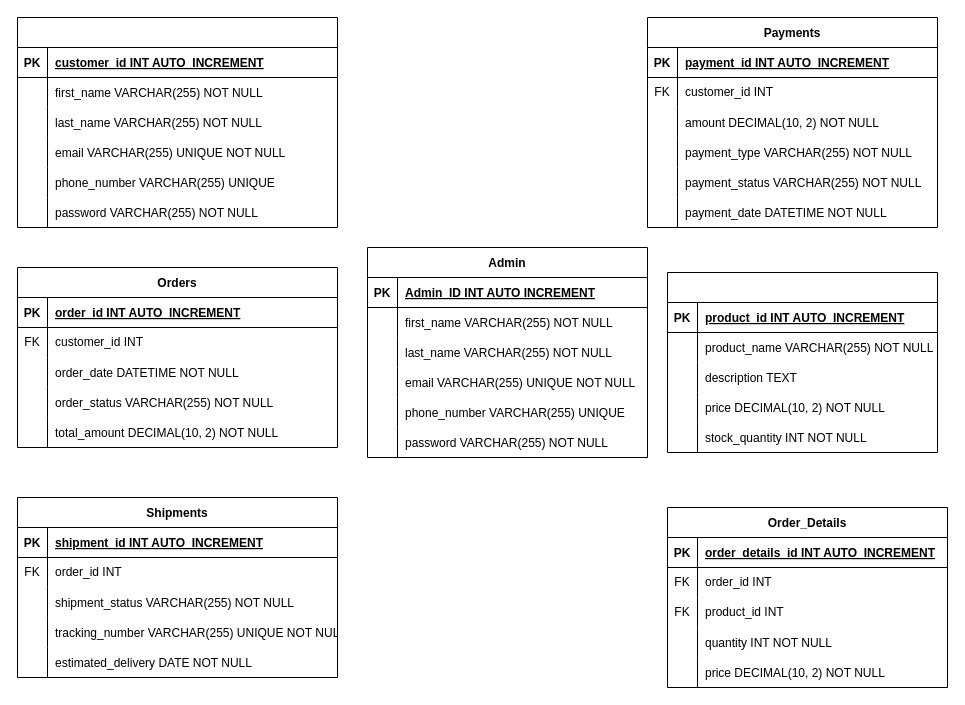
The diagram is 965 pixels wide and 705 high, and some of its shapes have lost their labels. The shapes that lost their labels are listed below. From the top down, each one's box as (x1, y1, x2, y2) in pixels, then its label:
(16, 16, 338, 228): Customers
(666, 272, 938, 452): Products
